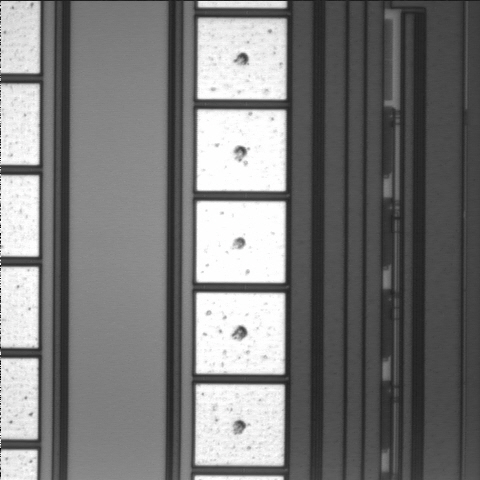pad: (196, 201, 286, 283), (197, 18, 286, 100), (197, 109, 286, 191), (195, 384, 284, 466), (196, 293, 285, 374)
